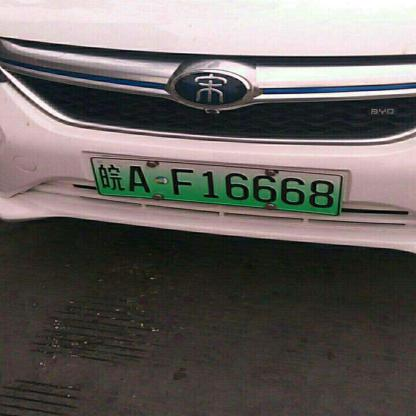lp: (90, 158, 342, 214)
